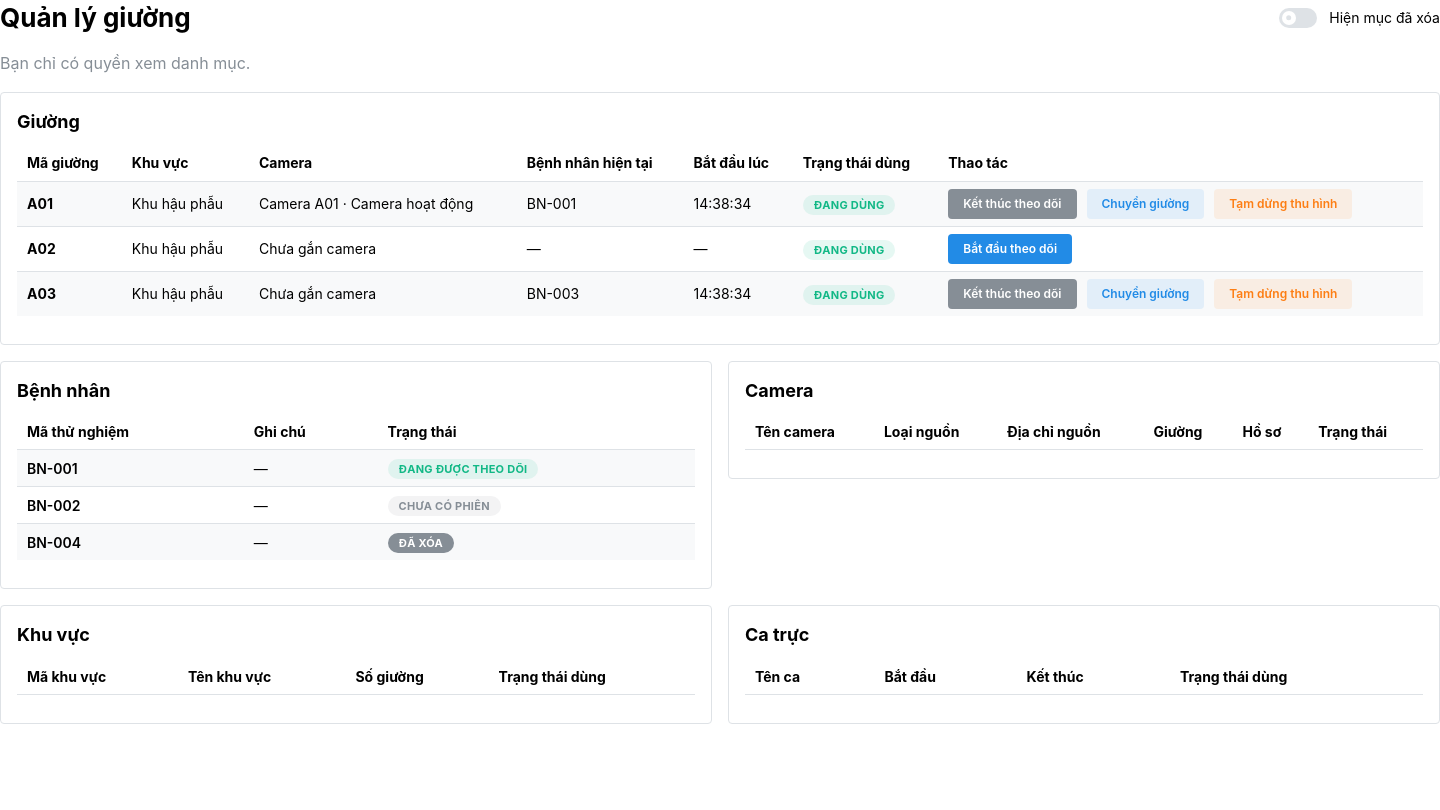
Test case: TransferSessionDialog › shows the API message when the target bed became busy
Click the button "Chuyển giường" in the row of "Camera A01 · Camera hoạt động" at (1145, 204), box x1=1086 y1=189 x2=1204 y2=219
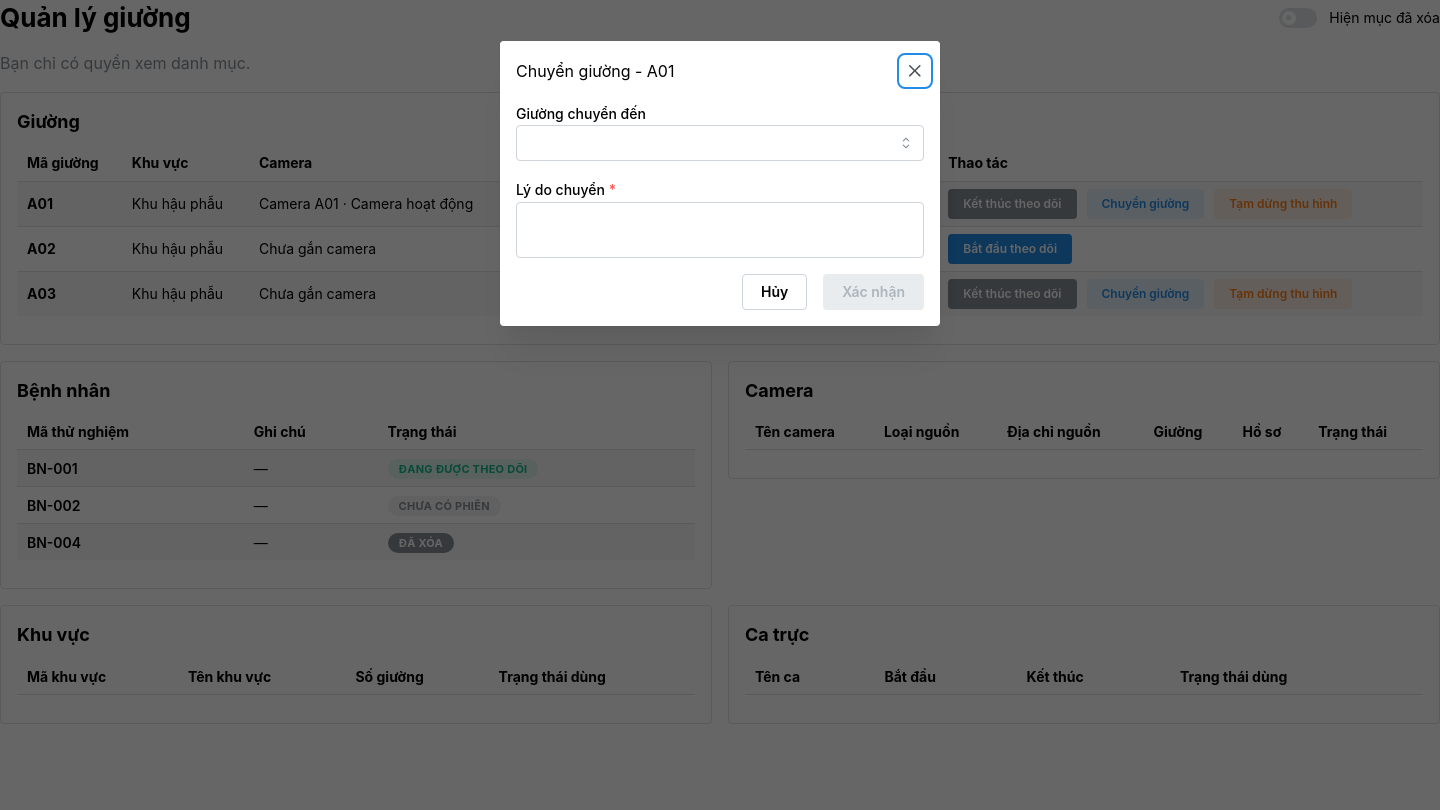
Click the field labelled "Giường chuyển đến" at (720, 143), box x1=516 y1=125 x2=924 y2=161
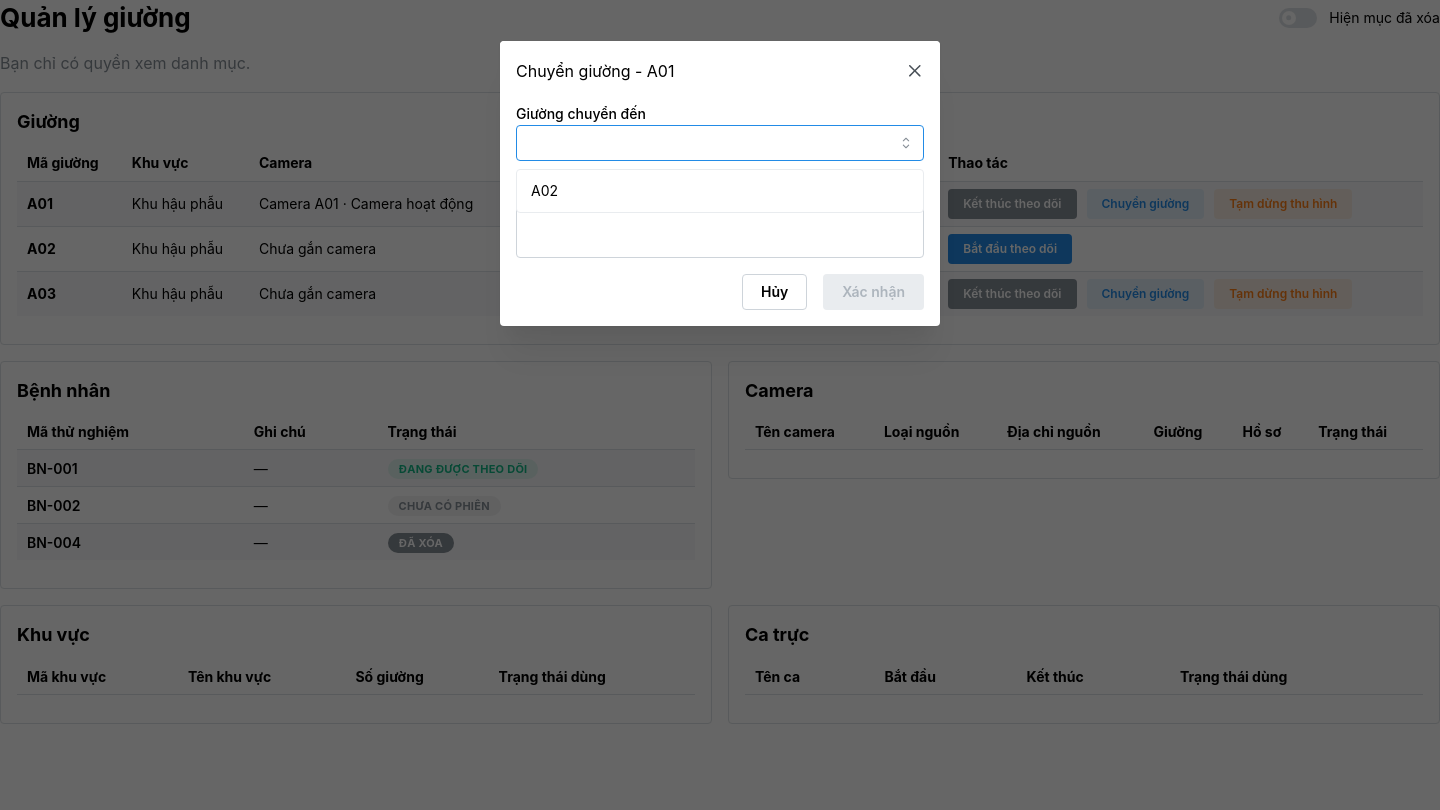
Click the option "A02" at (544, 191), box x1=531 y1=182 x2=558 y2=199
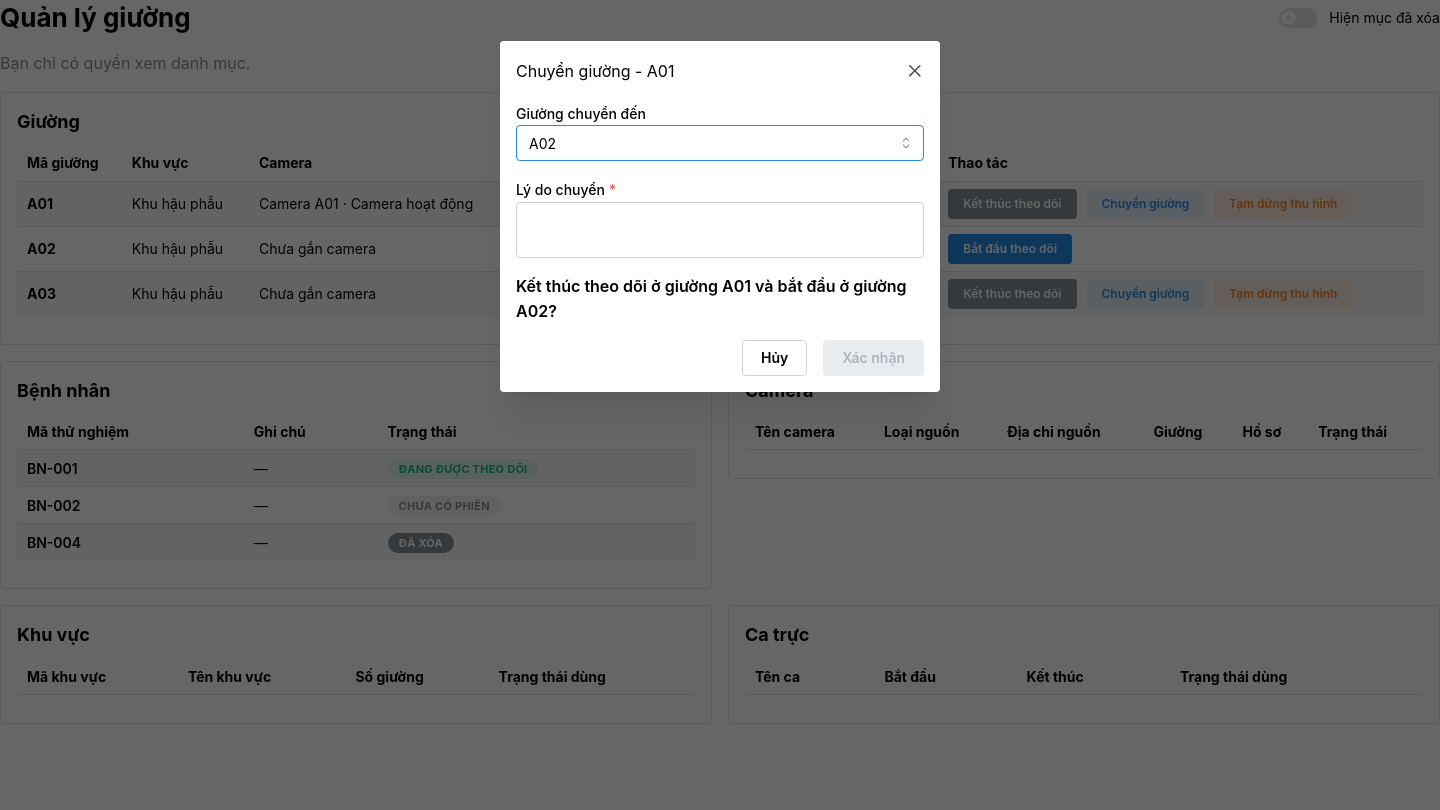
Type "Đổi phòng" into the text box labelled "Lý do chuyển *" at (720, 230), box x1=516 y1=202 x2=924 y2=258
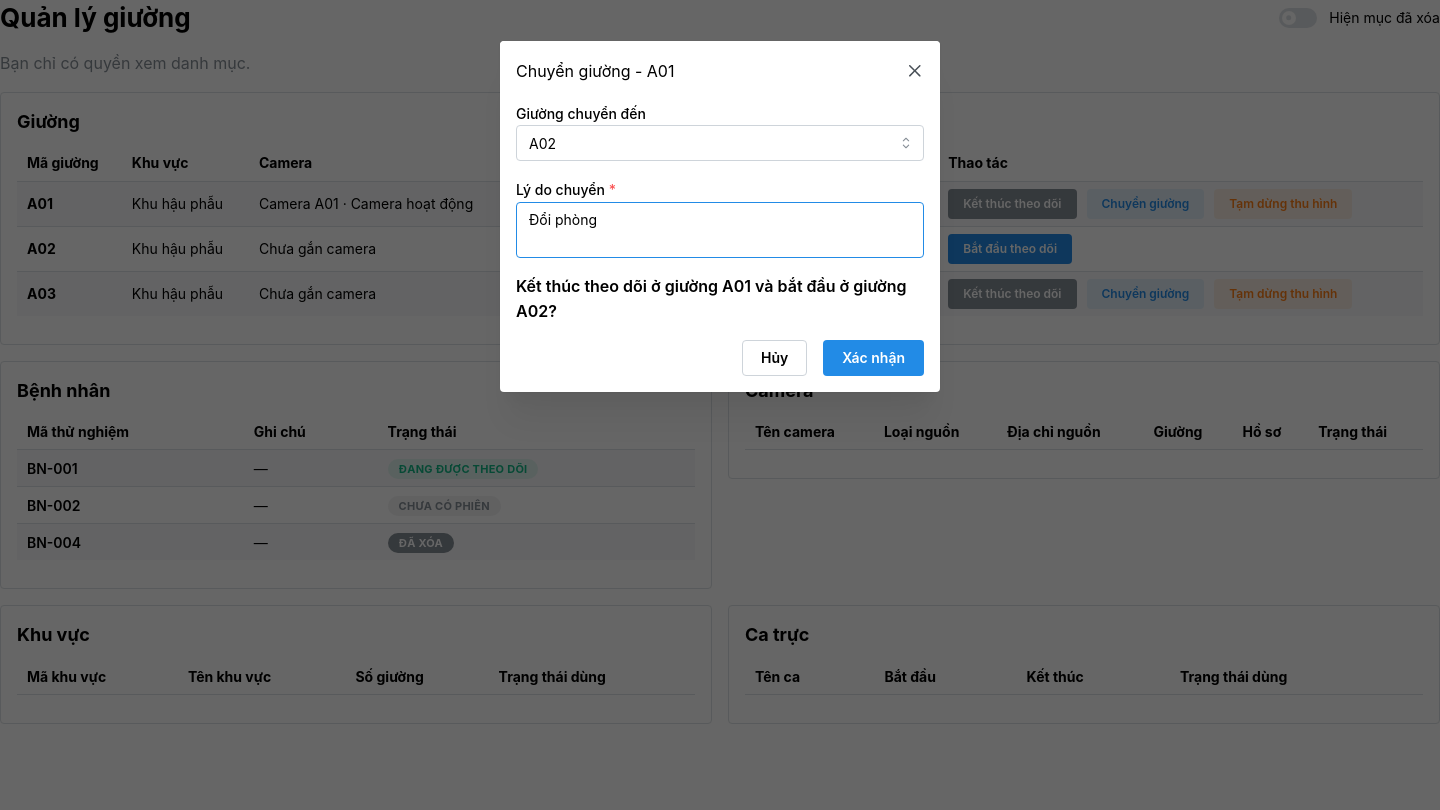
Click the button "Xác nhận" at (874, 358), box x1=823 y1=340 x2=924 y2=376
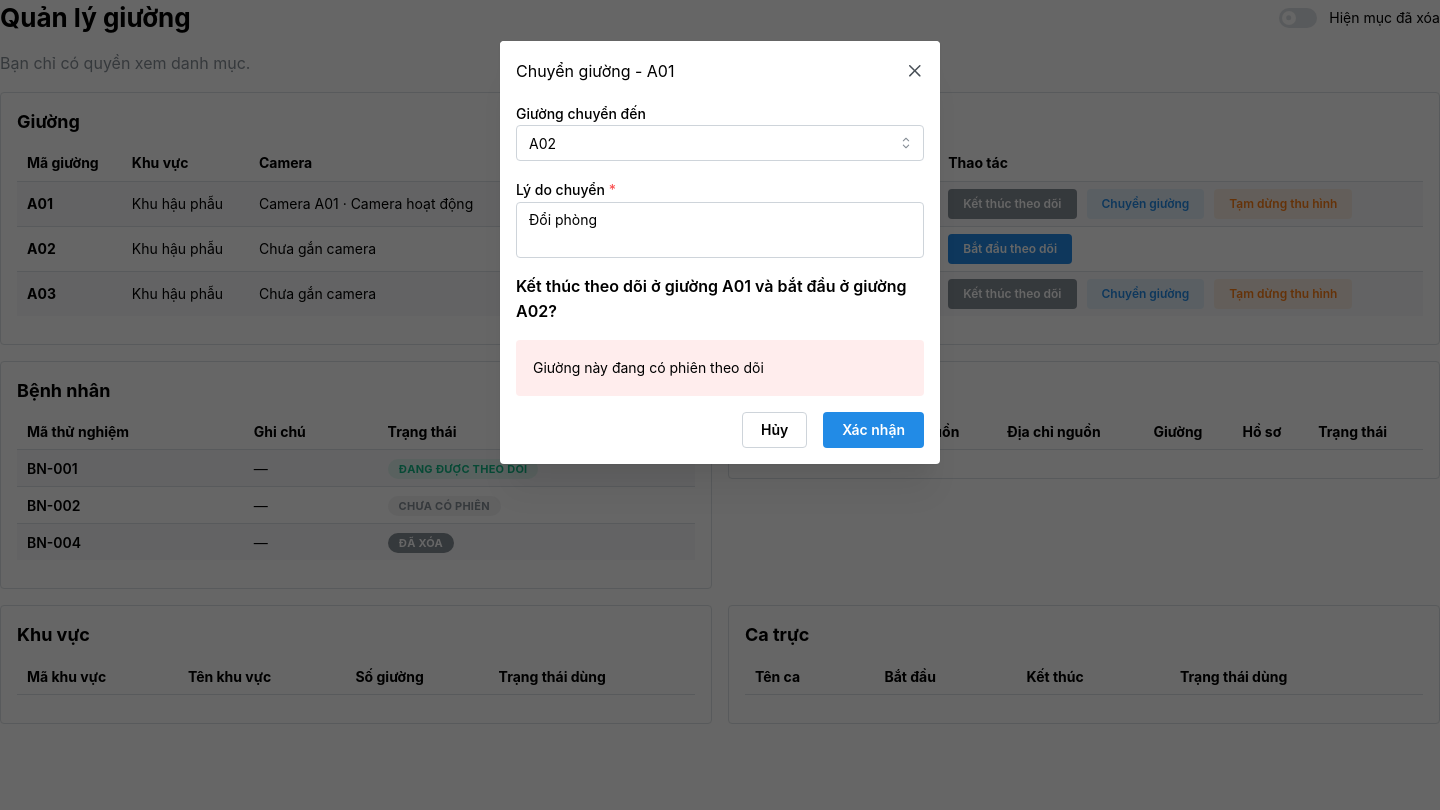
Check: the text "Giường này đang có phiên theo dõi" is shown, box x1=533 y1=359 x2=764 y2=376
